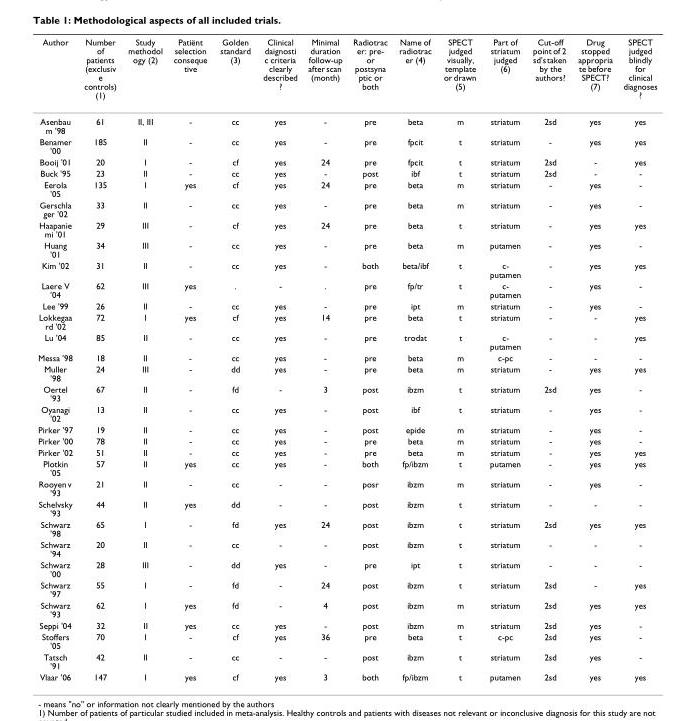table: (37, 36, 656, 681)
table column: (121, 36, 167, 681), (256, 36, 302, 681), (346, 36, 392, 681), (436, 36, 482, 681), (571, 36, 617, 681), (167, 36, 212, 681), (526, 36, 571, 681), (77, 36, 121, 681), (212, 36, 256, 681), (302, 36, 346, 681), (392, 36, 436, 681), (482, 36, 526, 681), (37, 36, 77, 681), (617, 36, 656, 681)
table column header: (37, 36, 656, 107)
table row: (37, 36, 656, 107), (37, 107, 656, 135), (37, 218, 656, 239), (37, 362, 656, 383), (37, 497, 656, 518), (37, 598, 656, 619), (37, 135, 656, 155), (37, 178, 656, 198), (37, 198, 656, 218), (37, 239, 656, 259), (37, 259, 656, 279), (37, 279, 656, 299), (37, 311, 656, 331), (37, 331, 656, 351), (37, 383, 656, 403), (37, 403, 656, 423), (37, 457, 656, 477), (37, 477, 656, 497), (37, 518, 656, 538), (37, 538, 656, 558), (37, 558, 656, 578), (37, 578, 656, 598), (37, 630, 656, 650), (37, 650, 656, 670), (37, 155, 656, 167), (37, 299, 656, 311), (37, 434, 656, 446), (37, 167, 656, 178), (37, 351, 656, 362), (37, 423, 656, 434), (37, 446, 656, 457), (37, 619, 656, 630), (37, 670, 656, 681)
